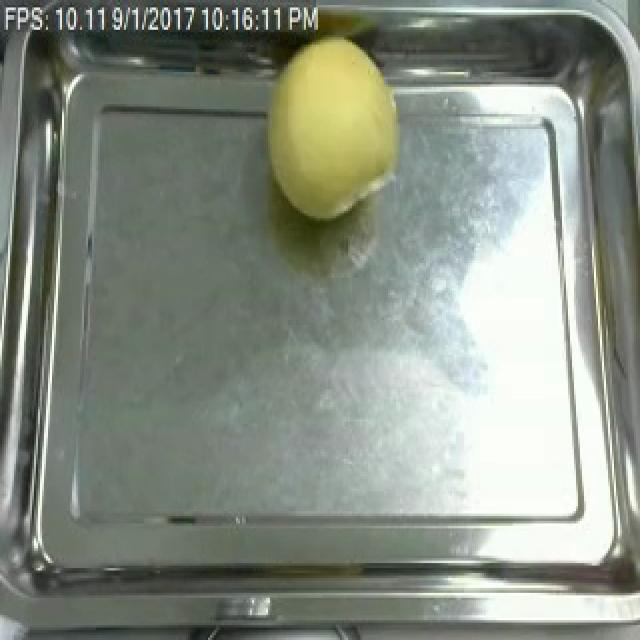Fruit: (256, 25, 410, 226)
